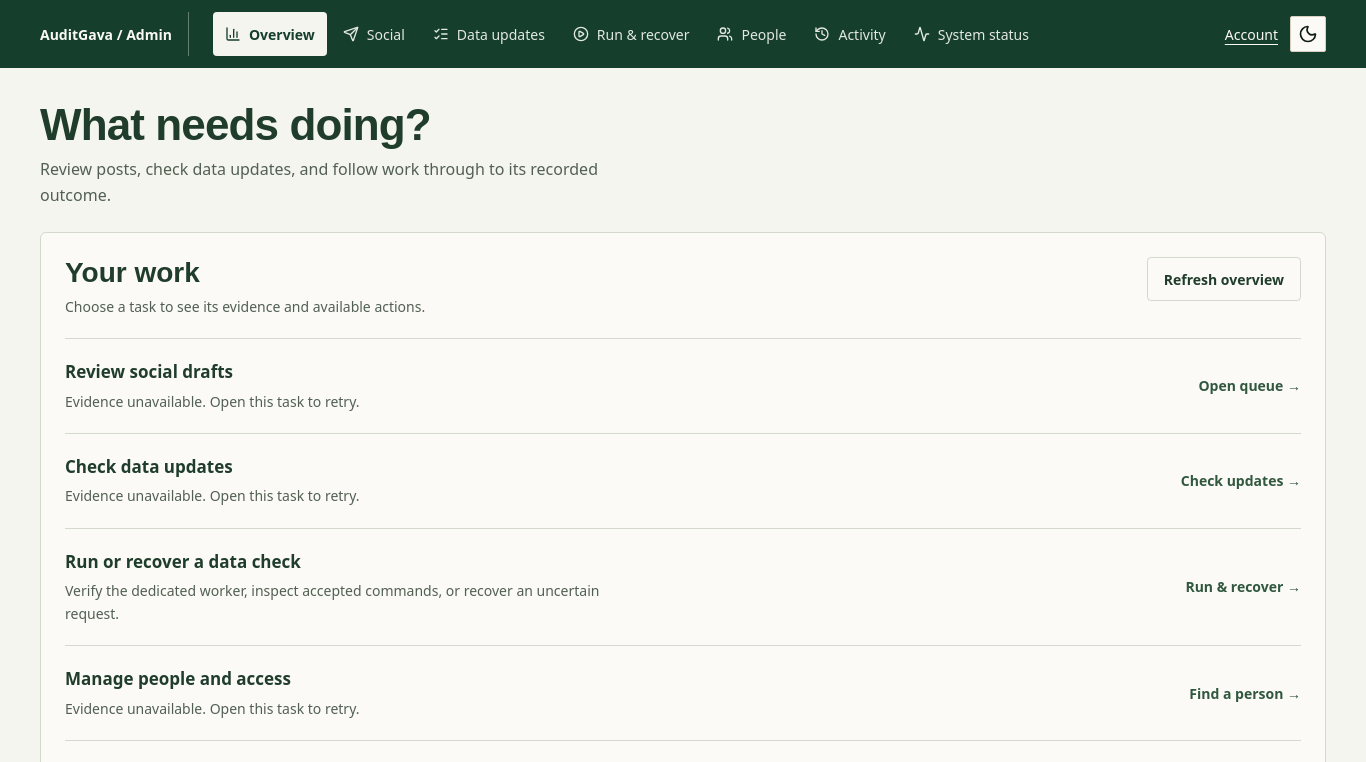
Test: actual guarded route ETL=false › failed reads retain unavailable evidence and a functional refresh
This screenshot has width=1366, height=762.
Click the button "Refresh overview": (1224, 280) [1147,258,1301,302]
(page scrolled)
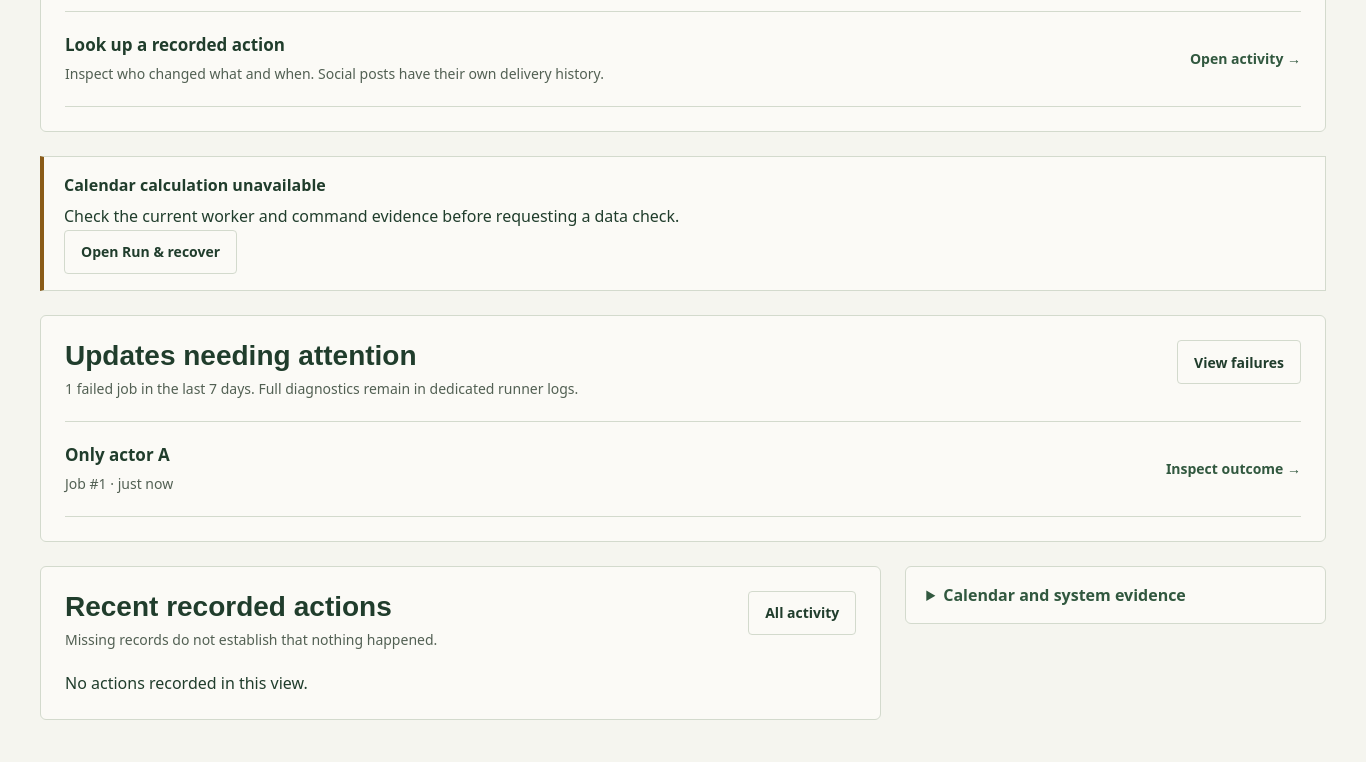
Result: the text "Only actor A" is shown at [65,442,173,467]
